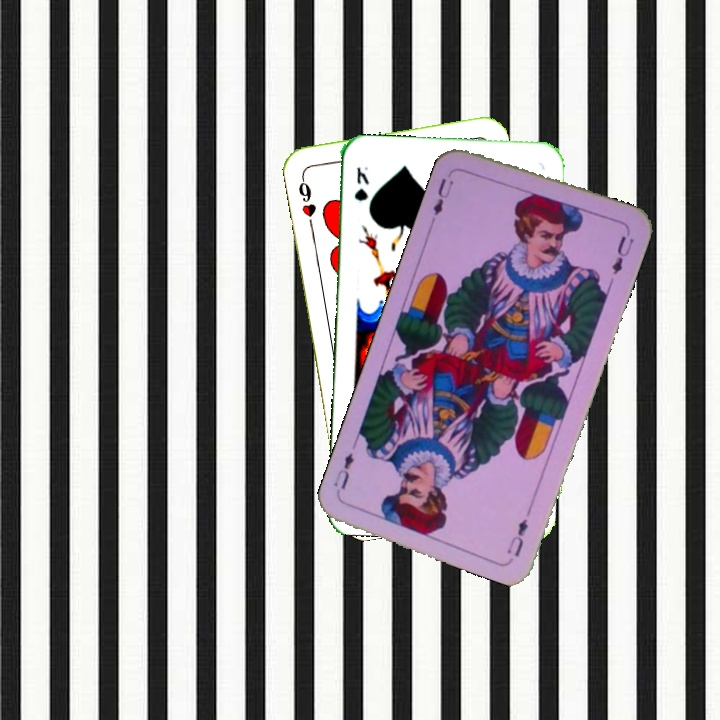EU: (428, 167, 457, 218), (503, 515, 531, 559)
GK: (351, 163, 371, 204)
H9: (294, 170, 319, 229)
